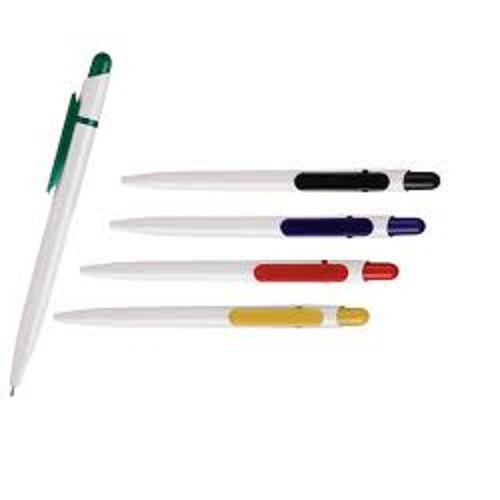Boligrafo: (9, 51, 113, 395), (118, 166, 443, 195), (77, 256, 402, 285), (51, 303, 372, 331), (105, 213, 427, 238)
